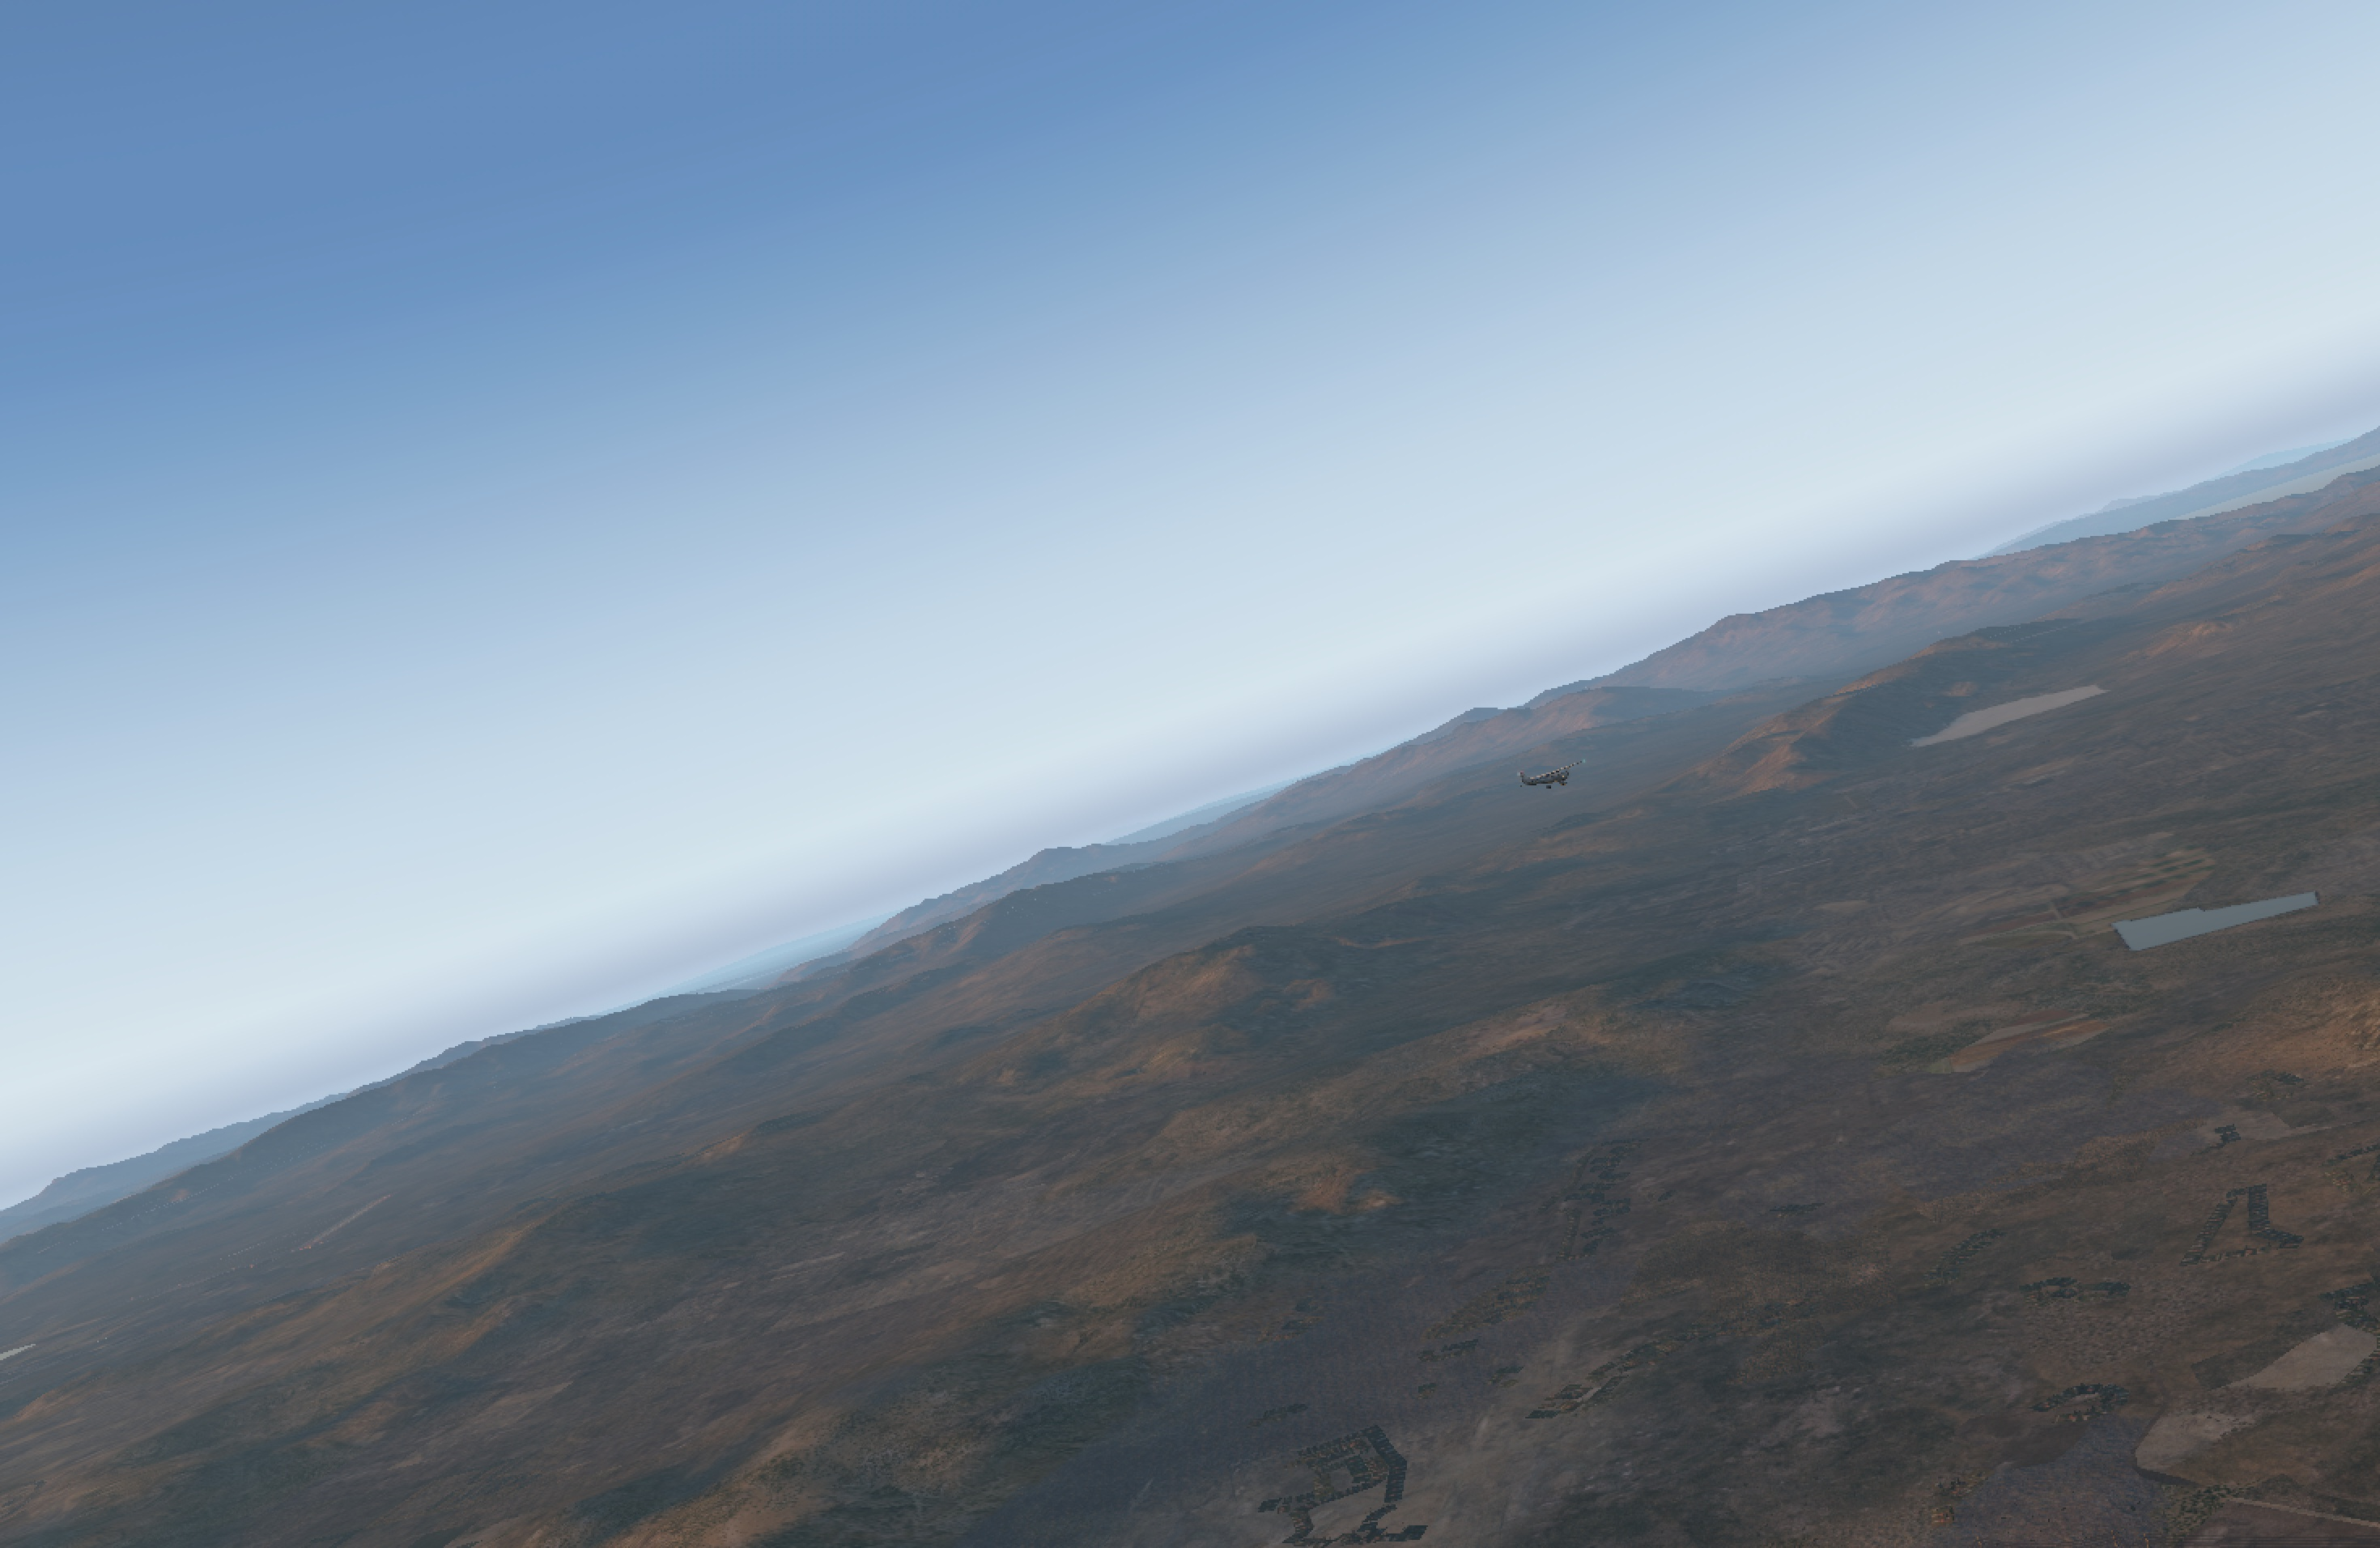aircraft: (1523, 765, 1586, 788)
